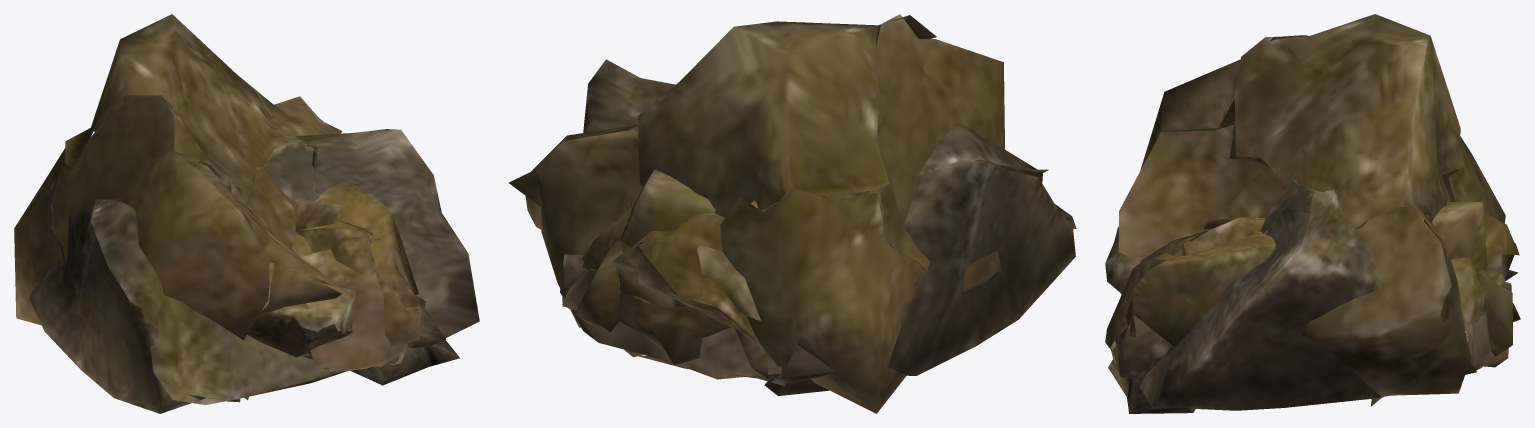
The model's file is rocks.glb.
3 renders of one model, left to right at view 1: azimuth 30°, elevation 25°; view 2: azimuth 150°, elevation 25°; view 3: azimuth 270°, elevation 25°, orthographic. The views are drawn at different scales.
Parts seen in each view (by area): view 1: rock_moss_set_01_rock04, rock_moss_set_01_rock03, rock_moss_set_01_rock06, rock_moss_set_01_rock01, rock_moss_set_01_rock05, rock_moss_set_01_rock02; view 2: rock_moss_set_01_rock04, rock_moss_set_01_rock03, rock_moss_set_01_rock05, rock_moss_set_01_rock01, rock_moss_set_01_rock06, rock_moss_set_01_rock02; view 3: rock_moss_set_01_rock04, rock_moss_set_01_rock03, rock_moss_set_01_rock06, rock_moss_set_01_rock01, rock_moss_set_01_rock05, rock_moss_set_01_rock02.
Part boxes in pixels (box(x1,y1,x2,y2)): rock_moss_set_01_rock04: box(14, 14, 347, 340); rock_moss_set_01_rock03: box(29, 129, 479, 413); rock_moss_set_01_rock06: box(174, 151, 425, 371); rock_moss_set_01_rock01: box(294, 198, 446, 359); rock_moss_set_01_rock05: box(247, 262, 355, 357); rock_moss_set_01_rock02: box(351, 340, 459, 385); rock_moss_set_01_rock04: box(508, 14, 1005, 413); rock_moss_set_01_rock03: box(560, 59, 1076, 385); rock_moss_set_01_rock05: box(562, 205, 760, 364); rock_moss_set_01_rock01: box(634, 211, 759, 342); rock_moss_set_01_rock06: box(574, 169, 757, 357); rock_moss_set_01_rock02: box(735, 328, 829, 395); rock_moss_set_01_rock04: box(1118, 14, 1505, 397); rock_moss_set_01_rock03: box(1114, 121, 1511, 410); rock_moss_set_01_rock06: box(1105, 201, 1512, 370); rock_moss_set_01_rock01: box(1108, 213, 1519, 378); rock_moss_set_01_rock05: box(1105, 231, 1520, 369); rock_moss_set_01_rock02: box(1108, 270, 1517, 413).
Size of the model in its own units: 1.01 by 0.8193 by 1.01.
1 material, 1 textured.
